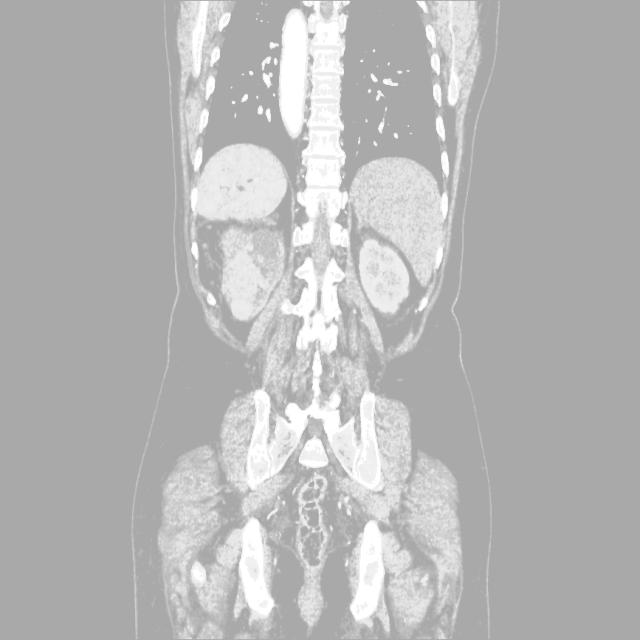TUMOR: (166, 152, 471, 360)
